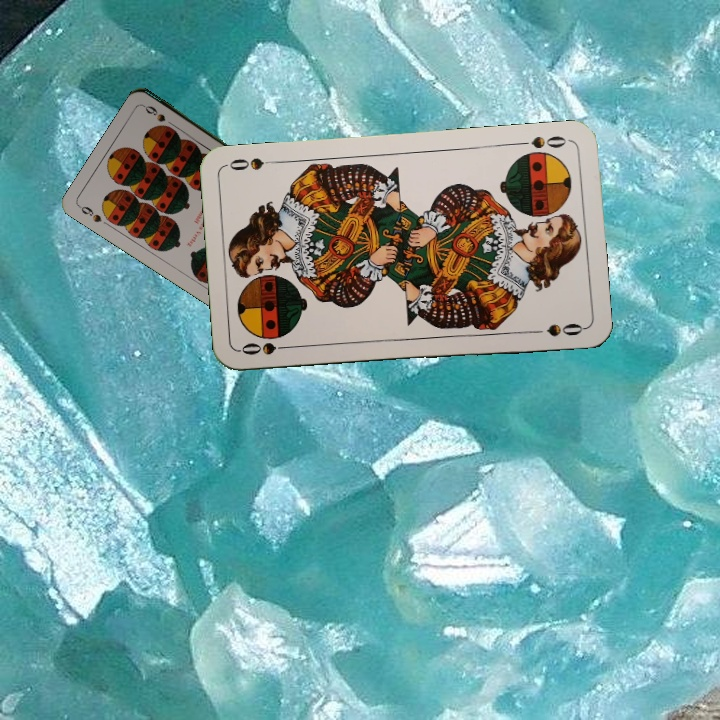S9: (75, 201, 104, 225)
SO: (513, 131, 572, 151), (237, 339, 297, 358)
